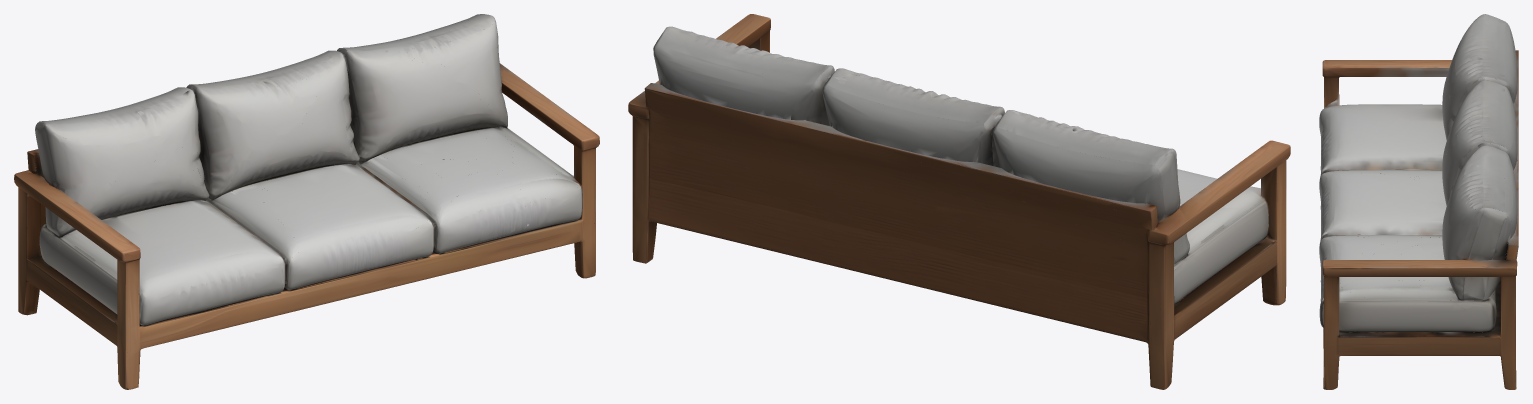
Rendered from OutdoorSofa.glb.
The picture shows the model from 3 angles, left to right: view 1: azimuth 30°, elevation 25°; view 2: azimuth 150°, elevation 25°; view 3: azimuth 270°, elevation 25°; orthographic projection. The views are drawn at different scales.
Parts seen in each view (by area): view 1: node_0; view 2: node_0; view 3: node_0.
Boxes of the visible parts, x1,y1,x2,y2 form: node_0: (14, 14, 599, 389); node_0: (628, 14, 1290, 389); node_0: (1319, 14, 1518, 389).
Size of the model in its own units: 1.06 by 0.4199 by 0.431.
1 material, 1 textured.
